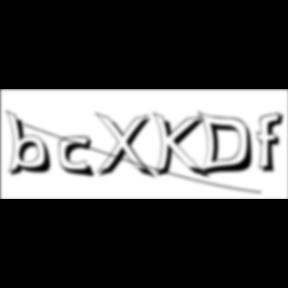D: (196, 110, 260, 180)
K: (152, 110, 212, 182)
X: (95, 112, 159, 182)
b: (5, 109, 58, 179)
c: (59, 136, 99, 180)
f: (256, 111, 288, 175)
